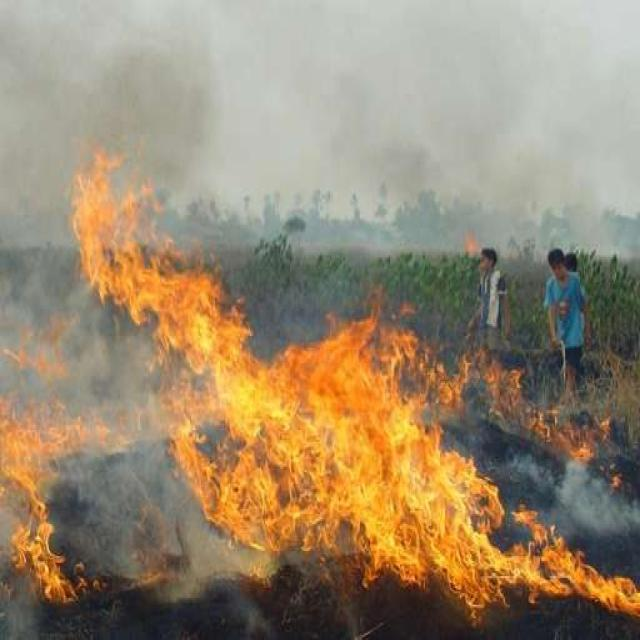Fire: (59, 132, 640, 618), (0, 303, 186, 639)
Smoke: (0, 0, 291, 635), (546, 458, 640, 550)
